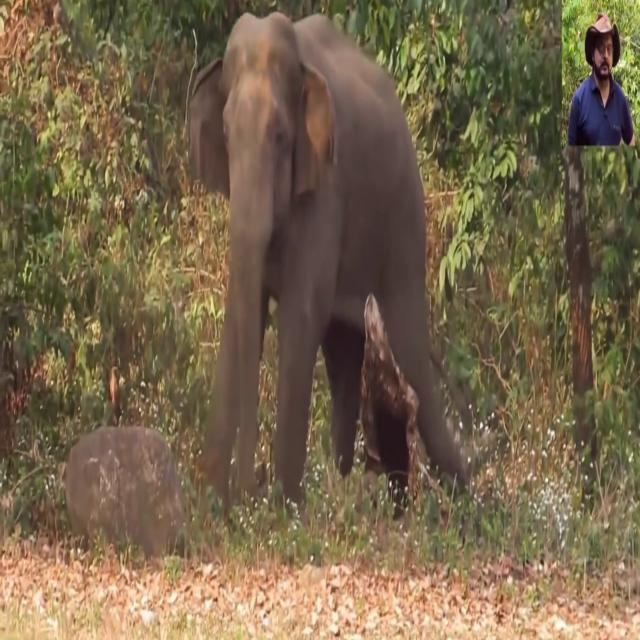Elephant: (187, 10, 469, 525)
